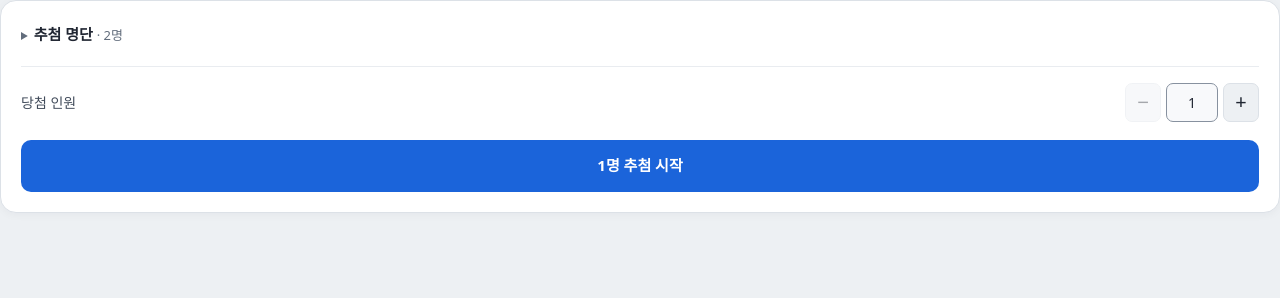
LotterySettingsPanel › blocks an invalid manually entered winner count 1.5
This screenshot has width=1280, height=298.
Replace the text in the number field labelled "당첨 인원" with "1.5" at [1192, 102], box [1166,82,1218,122]
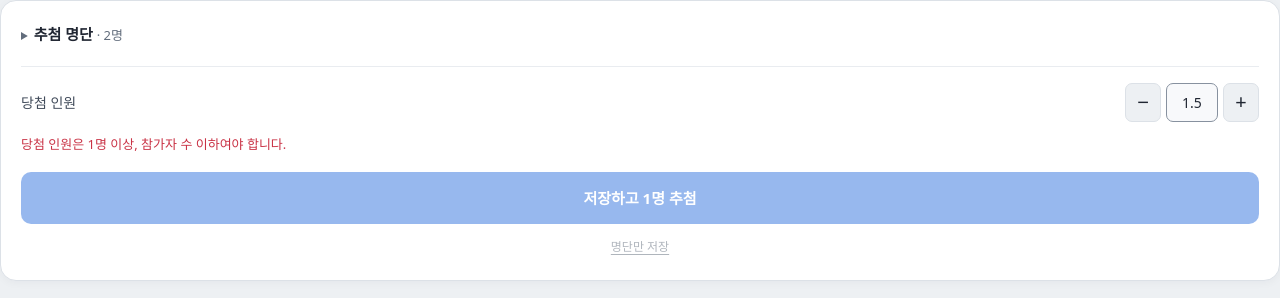
Check: the message shows "당첨 인원", box [21,134,286,152]
Check: the button "명단만 저장" is disabled, box [603,234,677,260]
Check: the button "저장하고 1명 추첨" is disabled, box [21,172,1259,224]
